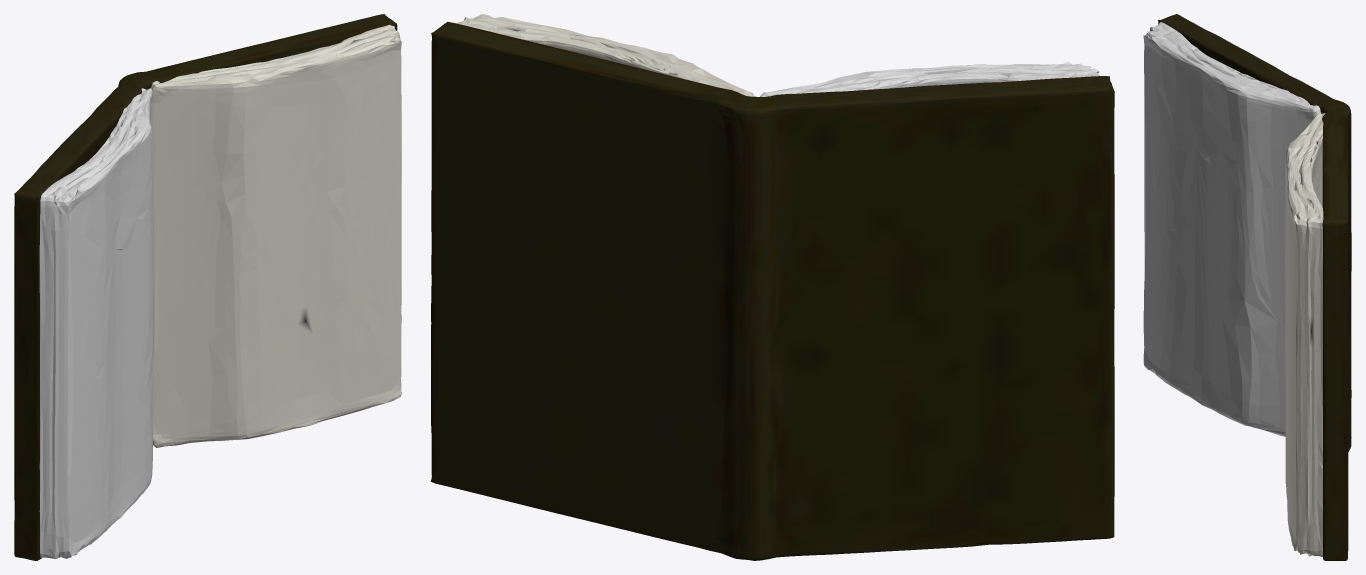
The model's file is book.glb.
3 views of the same model, side by side, from view 1: azimuth 30°, elevation 25°; view 2: azimuth 150°, elevation 25°; view 3: azimuth 270°, elevation 25° (orthographic). The views are drawn at different scales.
Visible parts, largest first — view 1: book, mesh_2_mirrored; view 2: book, mesh_2_mirrored; view 3: mesh_2_mirrored, book.
Boxes of the visible parts, x1,y1,x2,y2 form: book: (14, 14, 401, 560); mesh_2_mirrored: (39, 88, 153, 558); book: (430, 14, 1114, 560); mesh_2_mirrored: (760, 61, 1099, 96); mesh_2_mirrored: (1143, 22, 1320, 436); book: (1158, 14, 1351, 560).
Size of the model in its own units: 1.28 by 0.9698 by 0.5372.
